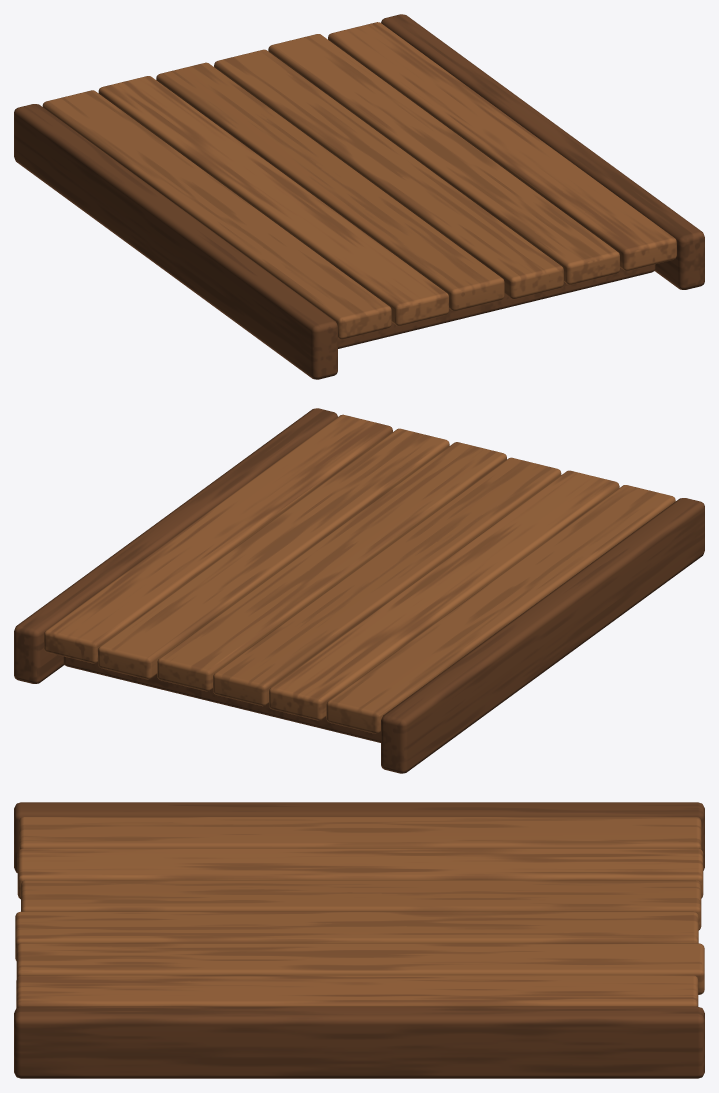
File: CC_T07_JettyDeck.fbx
The picture shows the model from 3 angles, top to bottom: view 1: azimuth 30°, elevation 25°; view 2: azimuth 150°, elevation 25°; view 3: azimuth 270°, elevation 25°; orthographic projection. The views are drawn at different scales.
Visible parts, largest first — view 1: Deck; view 2: Deck; view 3: Deck.
Part boxes in pixels (bbox=[...]): Deck: bbox=[14, 14, 704, 379]; Deck: bbox=[14, 408, 704, 773]; Deck: bbox=[14, 802, 704, 1078].
Bounding box in the file's own units: 3 × 0.4 × 4.
